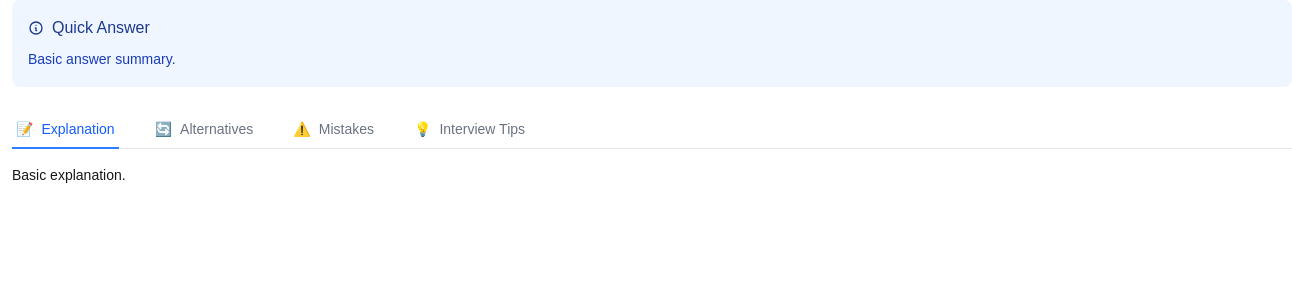
Test case: DetailedAnswer › shows empty state for mistakes when none exist
Click the button "⚠️ Mistakes" at (334,130), box [289,111,378,149]
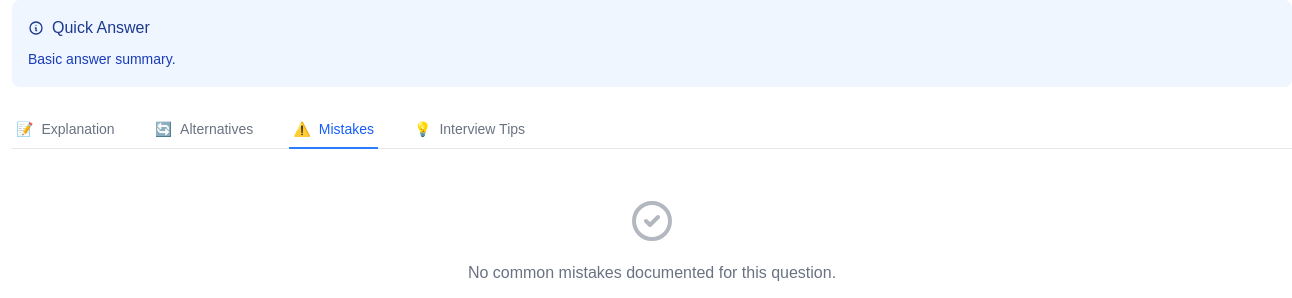
Check: the text "No common mistakes documented for this question." is shown, box [468,264,836,281]
